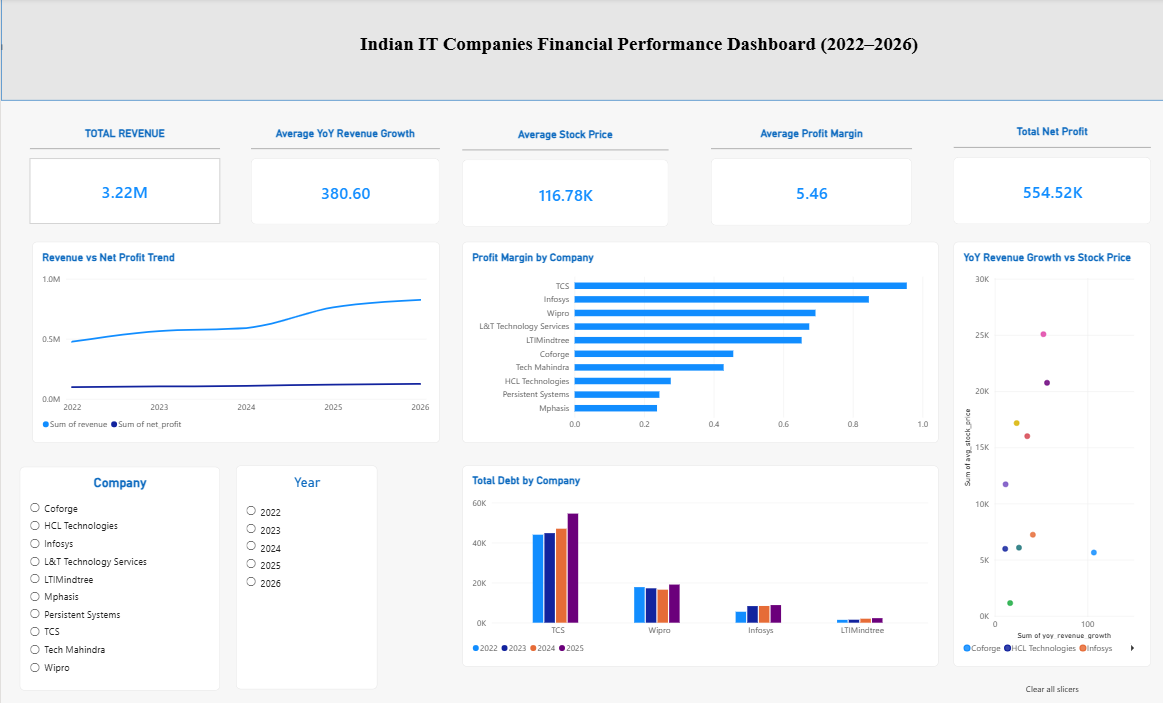

What the dashboard file says about the page in this screenshot:
{"tool":"powerbi","page":{"name":"Page 1","canvas":[1980,1200],"ordinal":0},"visuals":[{"type":"lineChart","title":"Revenue vs Net Profit Trend","fields":{"Category":["company_financials.year"],"Y":["Sum(company_financials.revenue)","Sum(company_financials.net_profit)"]},"box":[53.1,413.9,692,341.7],"z":0},{"type":"clusteredBarChart","title":"Profit Margin by Company","fields":{"Category":["company_financials.company"],"Y":["Sum(company_financials.profit_margin)"]},"box":[783.3,413.9,808.7,341.7],"z":1000},{"type":"scatterChart","title":"YoY Revenue Growth vs Stock Price","fields":{"Series":["company_financials.company"],"X":["Sum(company_financials.yoy_revenue_growth)"],"Y":["Sum(company_financials.avg_stock_price)"]},"box":[1617.5,413.9,335.4,721.7],"z":2000},{"type":"listSlicer","title":"Company","fields":{"Values":["company_financials.company"]},"box":[31.8,796,339.6,380],"z":3000},{"type":"listSlicer","title":"Year","fields":{"Values":["company_financials.year"]},"box":[399.1,793.9,239.9,380],"z":4000},{"type":"shape","box":[0,0,1980.4,174.1],"z":5000},{"type":"textbox","box":[0,40.3,1980.4,133.7],"z":6000},{"type":"cardVisual","title":"   TOTAL REVENUE","fields":{"Data":["Sum(company_financials.revenue)"]},"box":[49.4,218.2,323.2,164.7],"z":7000},{"type":"cardVisual","title":"Average YoY Revenue Growth","fields":{"Data":["Sum(company_financials.yoy_revenue_growth)"]},"box":[424.5,218.6,320.5,165.6],"z":8000},{"type":"cardVisual","title":"Average Stock Price","fields":{"Data":["Sum(company_financials.avg_stock_price)"]},"box":[783.3,220.8,350.2,167.7],"z":9000},{"type":"cardVisual","title":"Average Profit Margin","fields":{"Data":["Sum(company_financials.profit_margin)"]},"box":[1205.7,218.6,341.7,167.7],"z":10000},{"type":"cardVisual","title":"Total Net Profit","fields":{"Data":["Sum(company_financials.net_profit)"]},"box":[1617.5,216.5,335.4,167.7],"z":11000},{"type":"clusteredColumnChart","title":"Total Debt by Company ","fields":{"Category":["company_financials.company"],"Series":["company_financials.year"],"Y":["Sum(company_financials.total_debt)"]},"box":[783.3,793.9,808.7,341.7],"z":12000},{"type":"actionButton","box":[1685.4,1148.4,200,50],"z":12002}]}

Visuals, with their boxes in screenshot pixels (x1, y1, x2, y2), scaled from the page's 1980x1200 canvas onto the 1163x703 screenshot:
"Revenue vs Net Profit Trend" lineChart: (left=31, top=242, right=438, bottom=443)
"Profit Margin by Company" clusteredBarChart: (left=460, top=242, right=935, bottom=443)
"YoY Revenue Growth vs Stock Price" scatterChart: (left=950, top=242, right=1147, bottom=665)
"Company" listSlicer: (left=19, top=466, right=218, bottom=689)
"Year" listSlicer: (left=234, top=465, right=375, bottom=688)
shape: (left=0, top=0, right=1162, bottom=102)
textbox: (left=0, top=24, right=1162, bottom=102)
"   TOTAL REVENUE" cardVisual: (left=29, top=128, right=219, bottom=224)
"Average YoY Revenue Growth" cardVisual: (left=249, top=128, right=438, bottom=225)
"Average Stock Price" cardVisual: (left=460, top=129, right=666, bottom=228)
"Average Profit Margin" cardVisual: (left=708, top=128, right=909, bottom=226)
"Total Net Profit" cardVisual: (left=950, top=127, right=1147, bottom=225)
"Total Debt by Company " clusteredColumnChart: (left=460, top=465, right=935, bottom=665)
actionButton: (left=990, top=673, right=1107, bottom=702)
